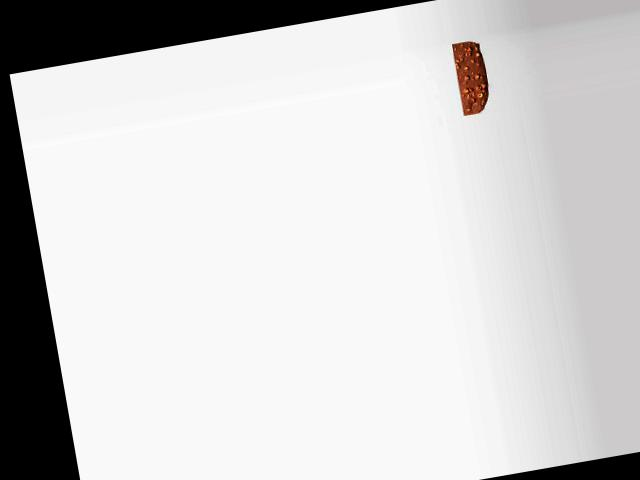chocolate: (448, 38, 498, 116)
